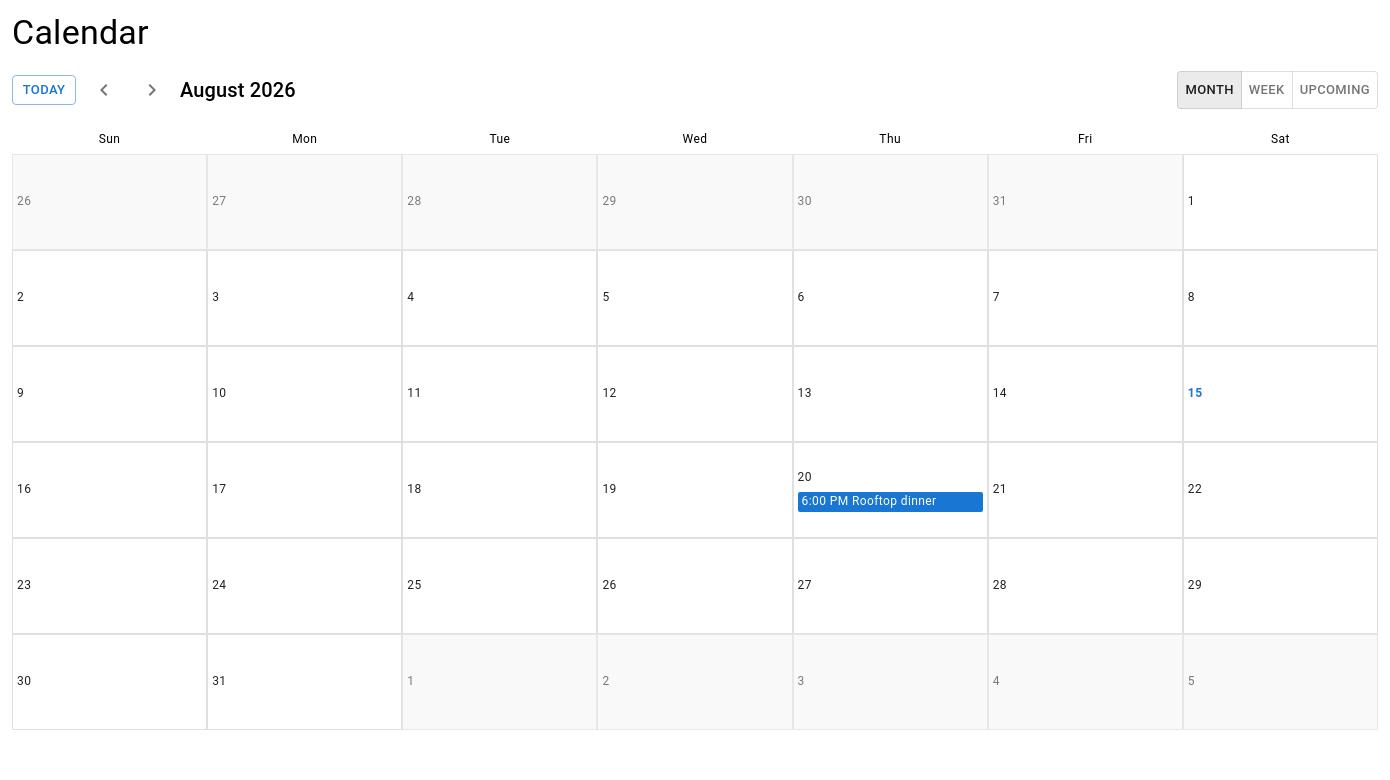
Scenario: CalendarPage › upcoming view shows a Continue styling action for an event whose styling is not yet complete
This screenshot has width=1390, height=780.
What coordinates should you click on to do the following:
click the button with aria-label "Upcoming view"
I would click on:
 (1335, 90)
Its box is top-left (1292, 71), bottom-right (1378, 109).
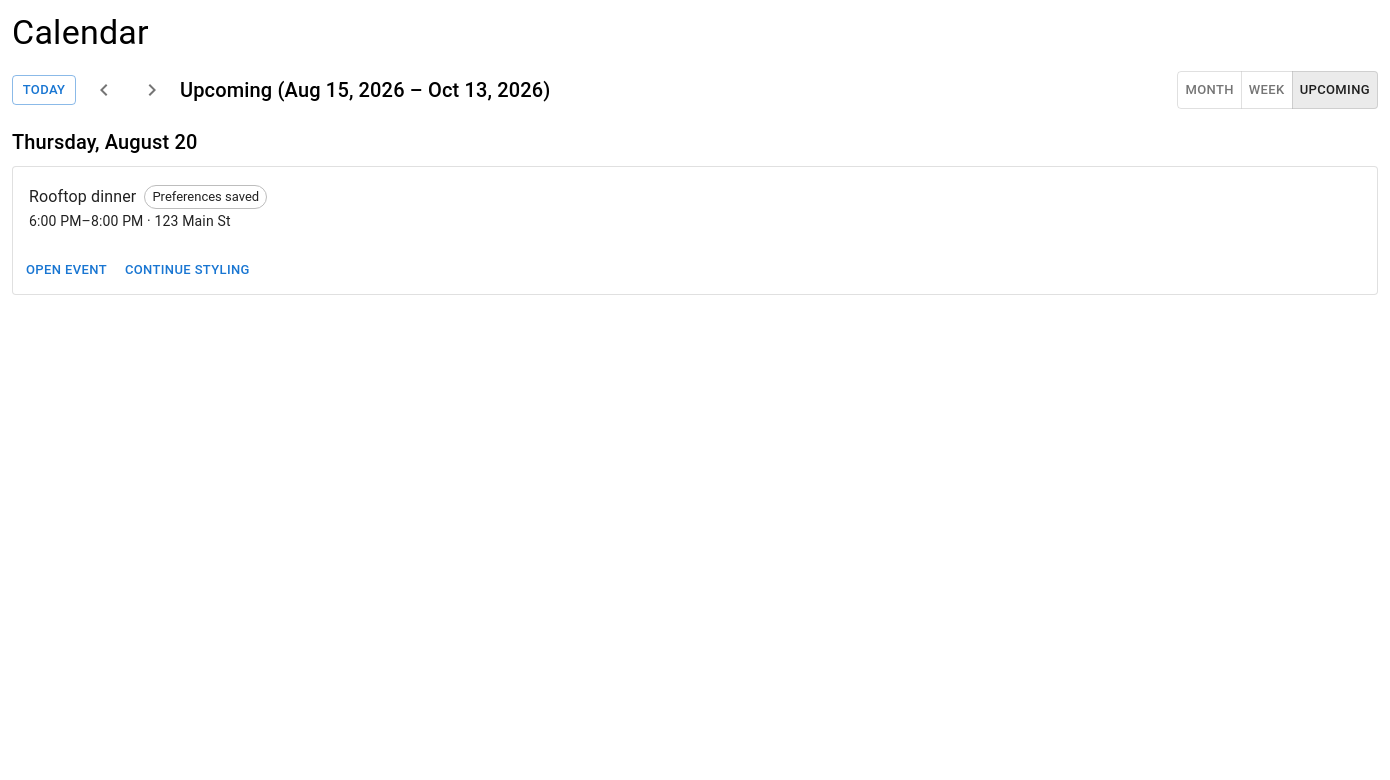
Result: the button "Continue styling" is shown at top-left (120, 255), bottom-right (255, 286)
